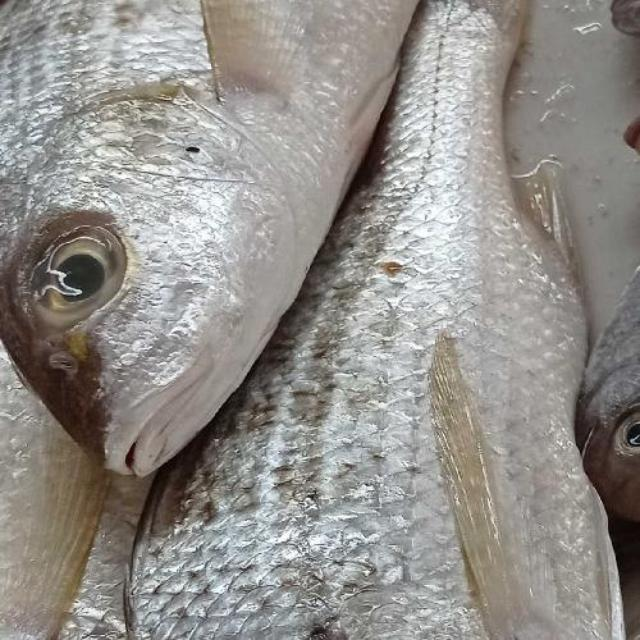Mulut: (50, 307, 246, 513)
